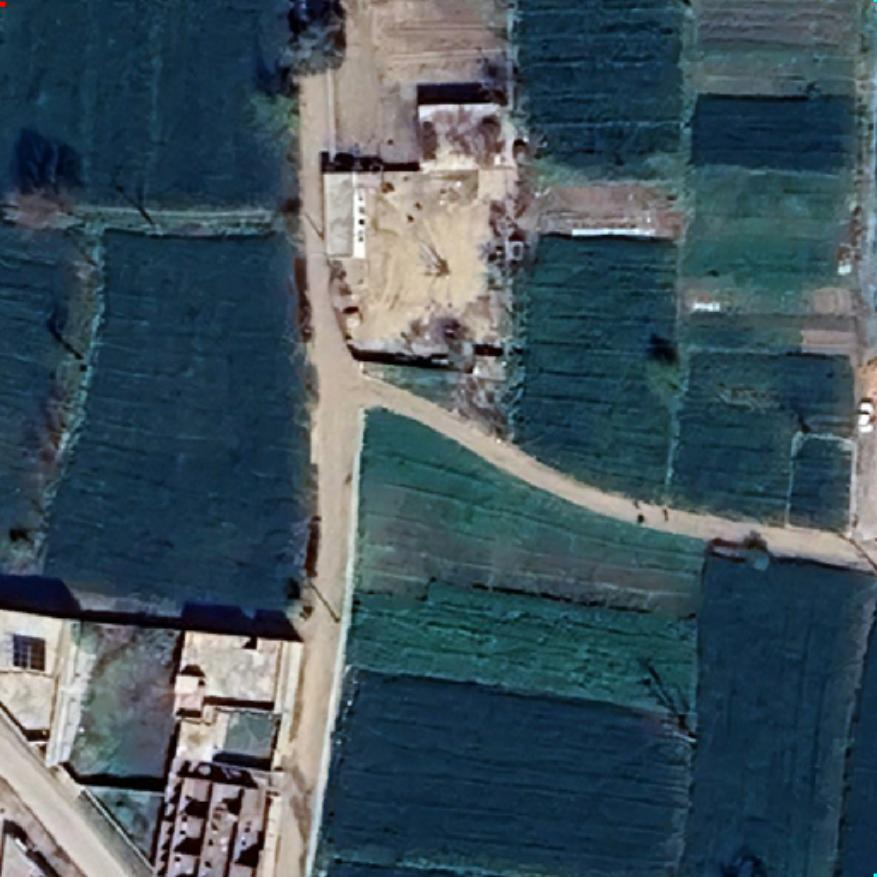Solarpanel: (9, 631, 48, 673)
